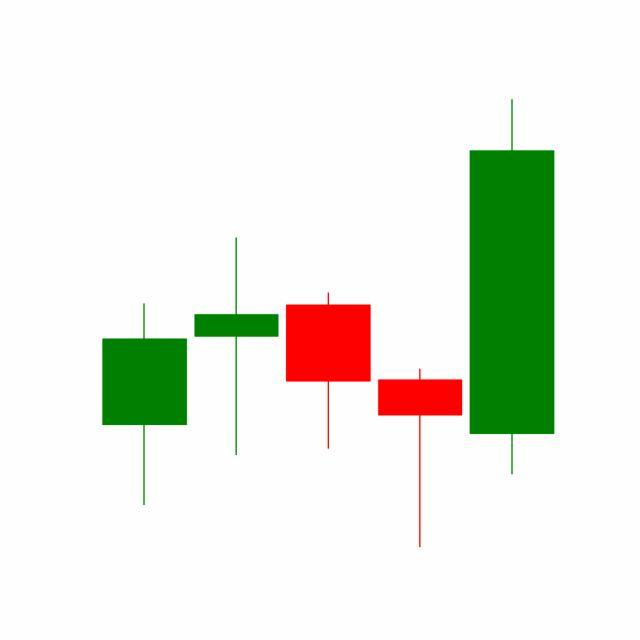Three Outside Up-Down: (190, 233, 467, 548)
